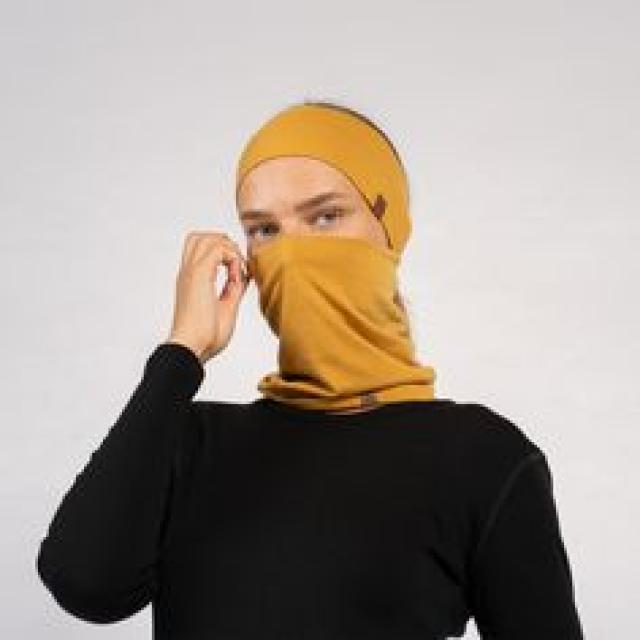8_ropa_rostro: (201, 234, 445, 389)
